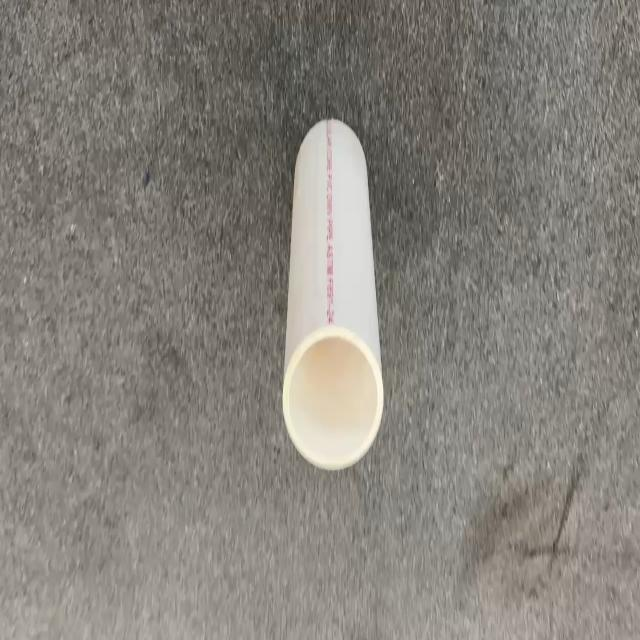coral: (282, 116, 384, 470)
